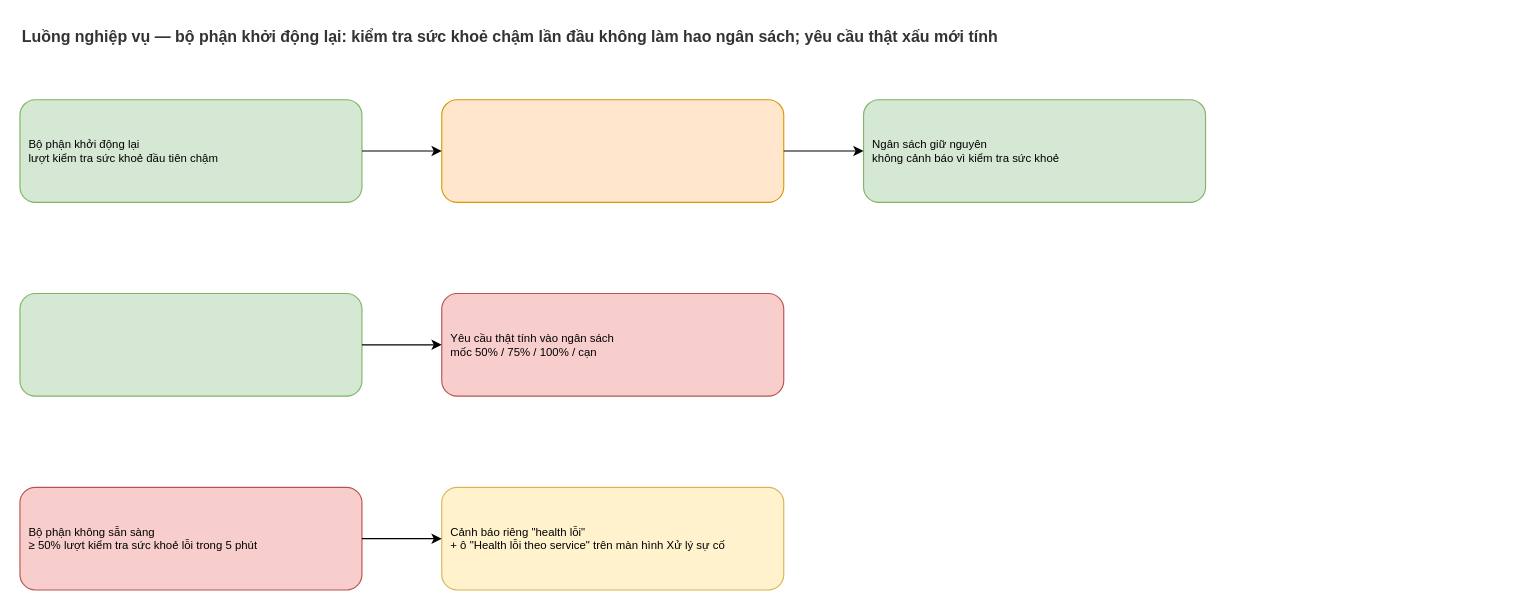
The diagram is 1522 pixels wide and 610 high, and some of its shapes have lost their labels. The centre of each missing label's shape, as x and y in pixels:
"Khách gửi yêu cầu thật bị lỗi hoặc chậm" goes at point 190,344.
"Lượt kiểm tra sức khoẻ bị bỏ khỏi công thức ngân sách" goes at point 612,150.
